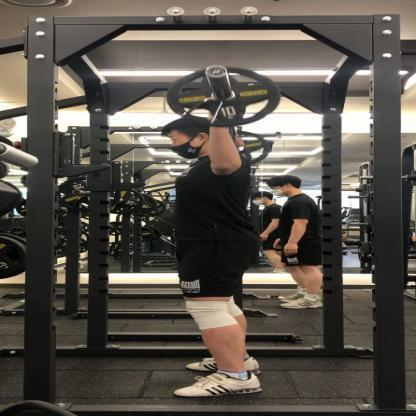barbell: (168, 64, 281, 126)
